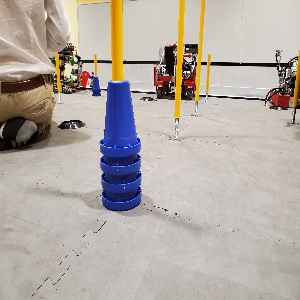Blue_2: (91, 76, 100, 96)
Blue_4: (99, 80, 141, 211)
